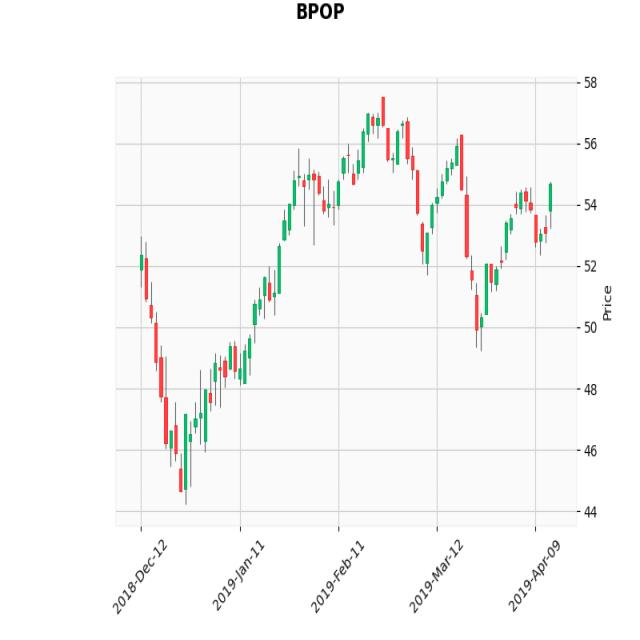Head-Shoulders: (278, 89, 486, 284)
